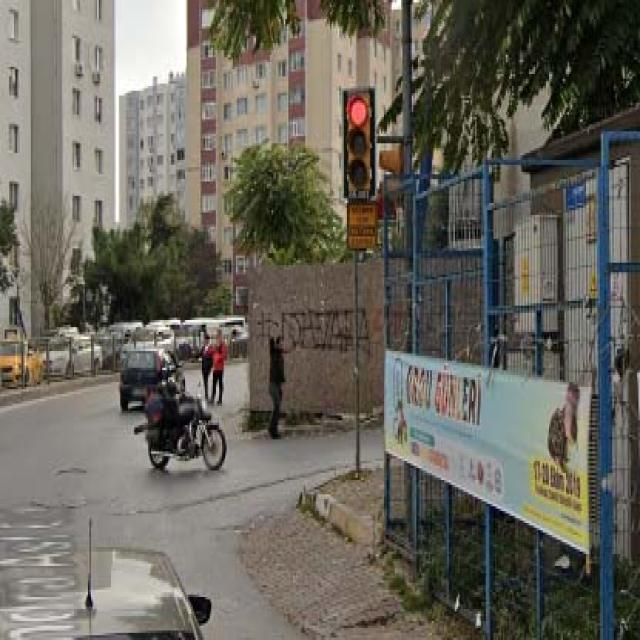kirmizi: (342, 88, 375, 198)
